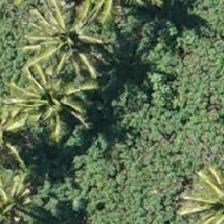coconut_tree: (24, 4, 114, 94), (0, 55, 90, 145), (0, 157, 54, 223)
